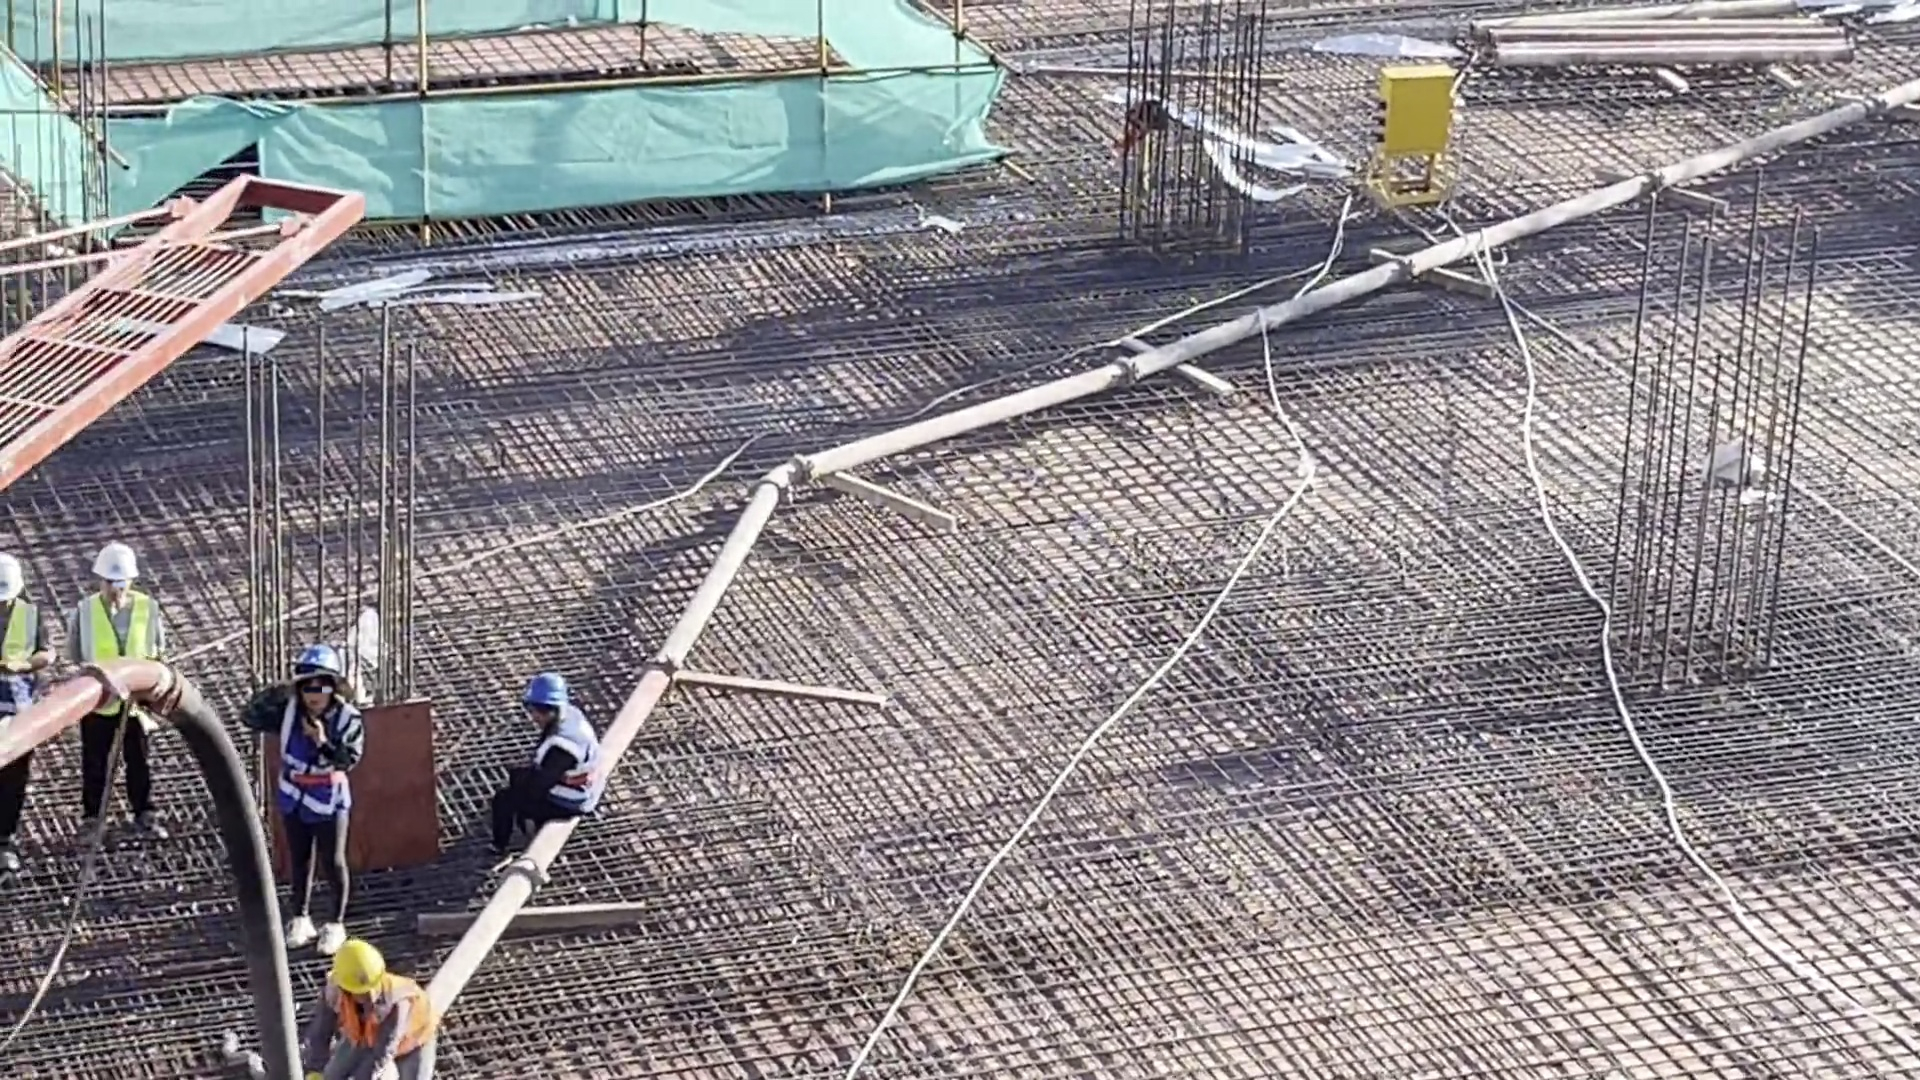helmet: (90, 547, 146, 580), (336, 941, 385, 980), (293, 649, 353, 679), (524, 675, 570, 710), (1, 558, 28, 602)
person: (56, 543, 181, 849), (258, 638, 355, 956), (484, 671, 603, 861), (290, 938, 438, 1080), (1, 548, 56, 879)
vest: (331, 991, 436, 1059), (284, 711, 348, 820), (75, 605, 148, 698), (532, 721, 605, 807), (3, 611, 42, 697)
